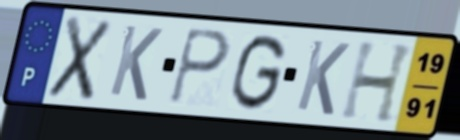G: (228, 32, 289, 113)
H: (337, 39, 418, 126)
K: (293, 37, 353, 119), (106, 22, 166, 104)
P: (166, 25, 232, 107)
X: (44, 13, 116, 104)
